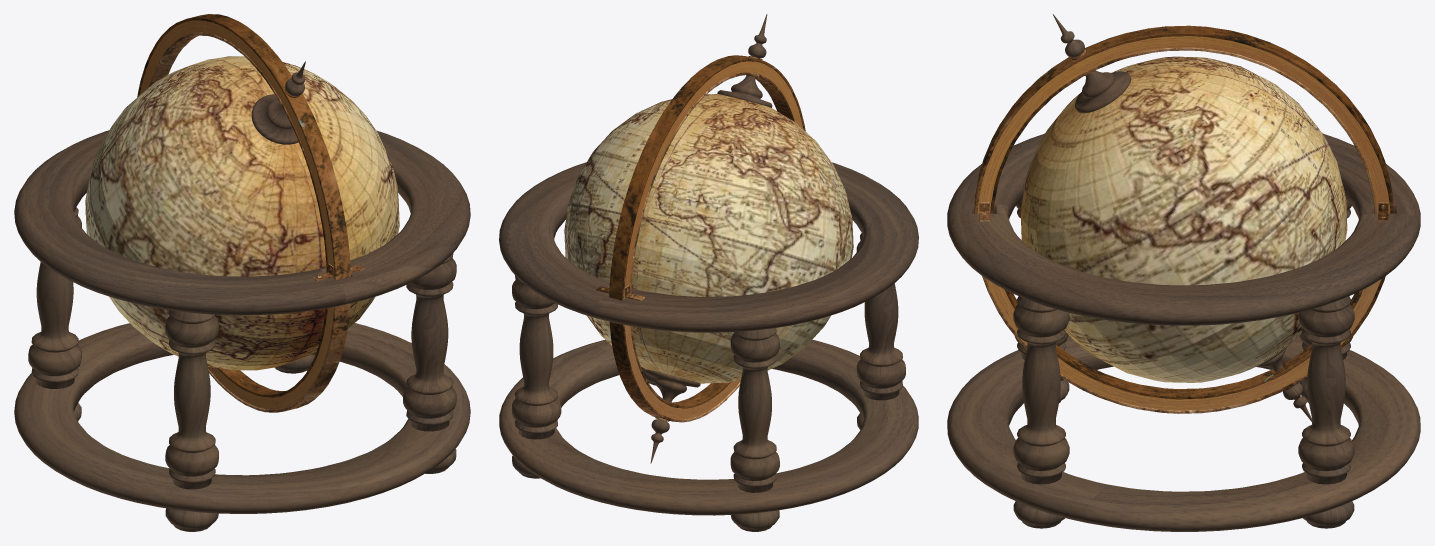
The model's file is globe_1136bdef.glb.
The picture shows the model from 3 angles, left to right: view 1: azimuth 30°, elevation 25°; view 2: azimuth 150°, elevation 25°; view 3: azimuth 270°, elevation 25°; orthographic projection. The views are drawn at different scales.
Visible parts, largest first — view 1: Sphere.010_4, Sphere.013_9, Cylinder.001_7, Sphere.014_10, Sphere.011_5, Sphere.012_6; view 2: Sphere.013_9, Sphere.010_4, Cylinder.001_7, Sphere.014_10, Sphere.011_5, Sphere.012_6; view 3: Sphere.013_9, Sphere.010_4, Cylinder.001_7, Sphere.014_10, Sphere.011_5, Sphere.012_6.
Boxes of the visible parts, x1,y1,x2,y2 form: Sphere.010_4: (14,130,470,513); Sphere.013_9: (85,56,399,370); Cylinder.001_7: (28,207,456,531); Sphere.014_10: (137,14,350,412); Sphere.011_5: (140,20,334,409); Sphere.012_6: (251,61,305,144); Sphere.013_9: (564,94,853,383); Sphere.010_4: (499,162,918,515); Cylinder.001_7: (512,233,905,531); Sphere.014_10: (609,55,805,422); Sphere.011_5: (624,61,803,419); Sphere.012_6: (645,14,772,463); Sphere.013_9: (1020,56,1347,382); Sphere.010_4: (947,133,1420,531); Cylinder.001_7: (1013,199,1354,528); Sphere.014_10: (974,25,1393,413); Sphere.011_5: (977,36,1390,410); Sphere.012_6: (1053,14,1311,421).
Size of the model in its own units: 2.89 by 3.01 by 2.89.
5 materials, 5 textured.
